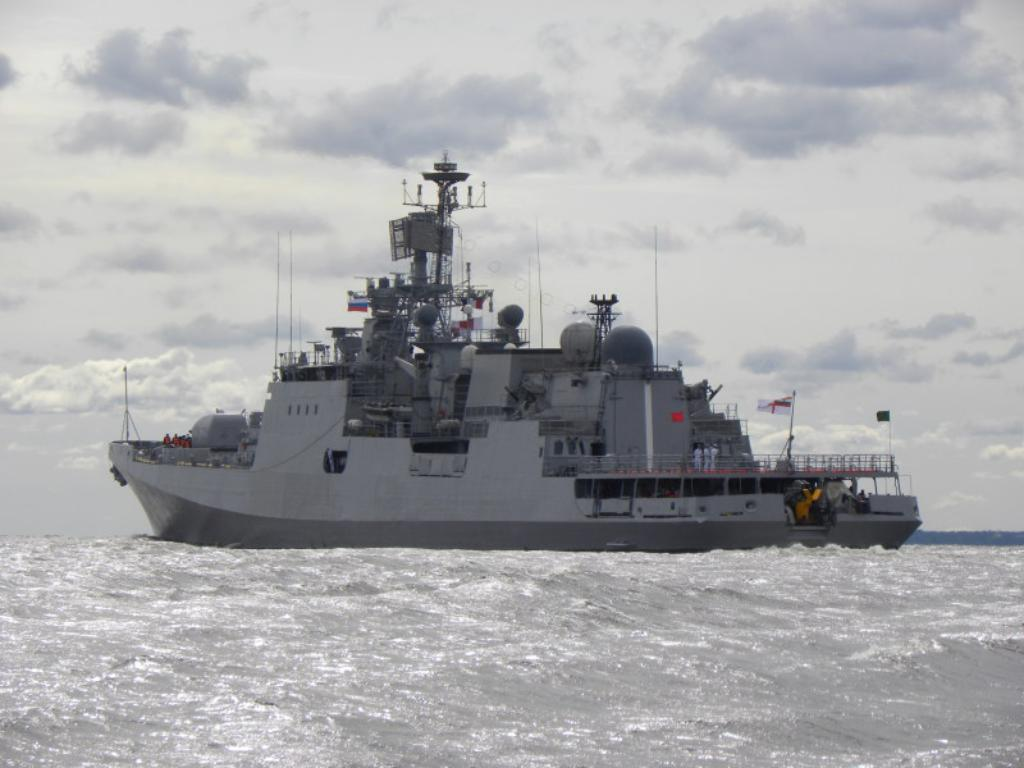Warship: (99, 136, 925, 558)
